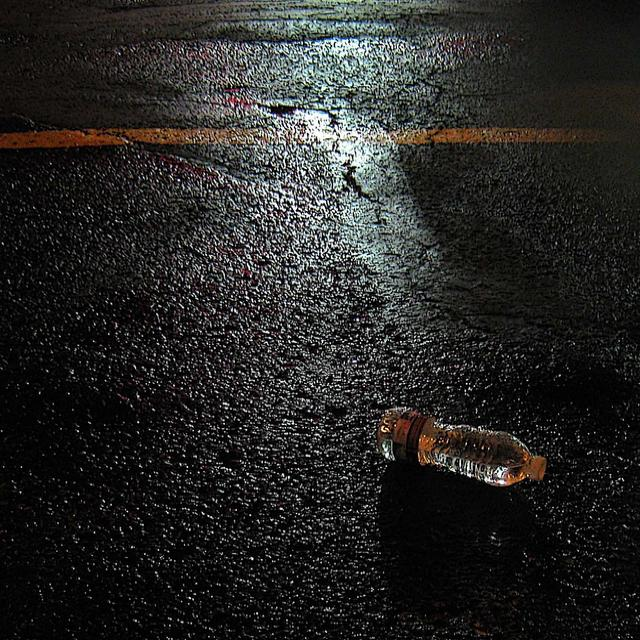Bottle: (373, 406, 571, 497)
